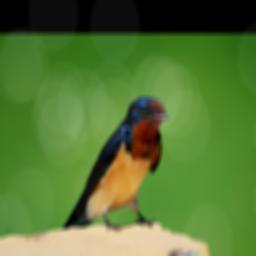Swallow: (61, 95, 170, 234)
